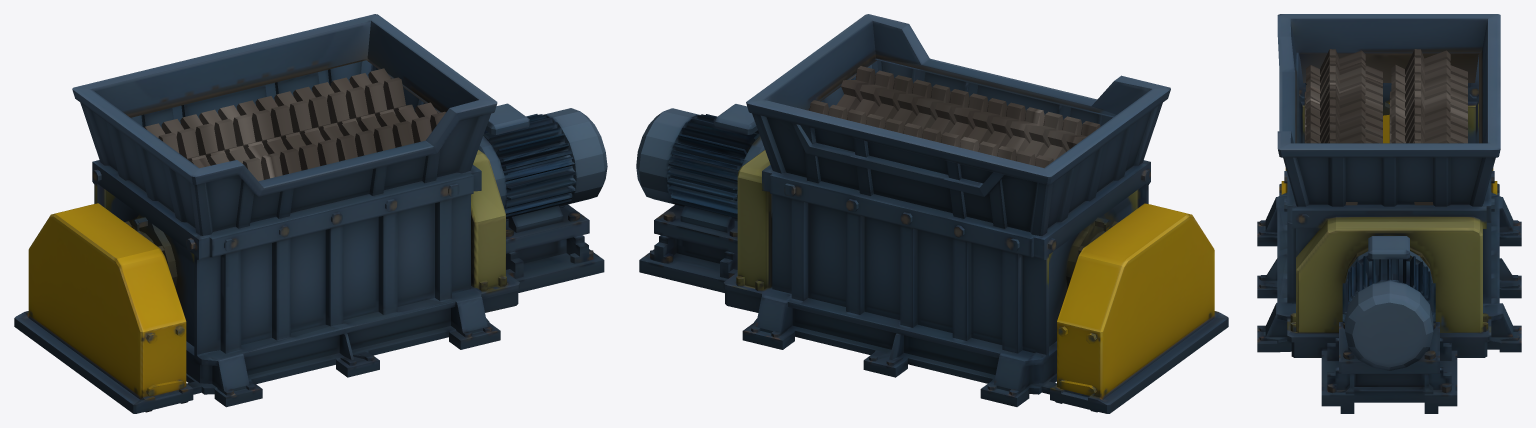
File: triturador.fbx
3 renders of one model, left to right at view 1: azimuth 30°, elevation 25°; view 2: azimuth 150°, elevation 25°; view 3: azimuth 270°, elevation 25°, orthographic. The views are drawn at different scales.
Visible parts, largest first — view 1: trituradora, laminas, laminas.001; view 2: trituradora, laminas.001, laminas; view 3: trituradora, laminas, laminas.001.
Part boxes in pixels (x1,y1,x2,y2): trituradora: (14,14,607,413); laminas: (144,68,414,162); laminas.001: (191,102,445,181); trituradora: (636,14,1228,413); laminas.001: (836,66,1100,160); laminas: (809,100,1053,167); trituradora: (1257,14,1521,413); laminas: (1389,49,1467,205); laminas.001: (1304,49,1382,205).
Size of the model in its own units: 190 by 80.47 by 92.97.
